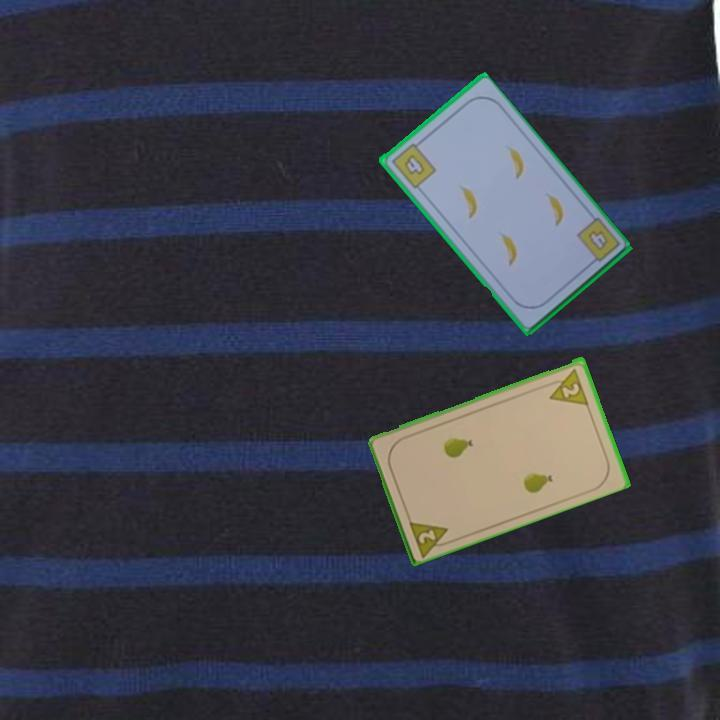2p: (542, 364, 591, 407), (415, 525, 439, 546)
4b: (387, 137, 438, 191), (584, 227, 611, 254)
